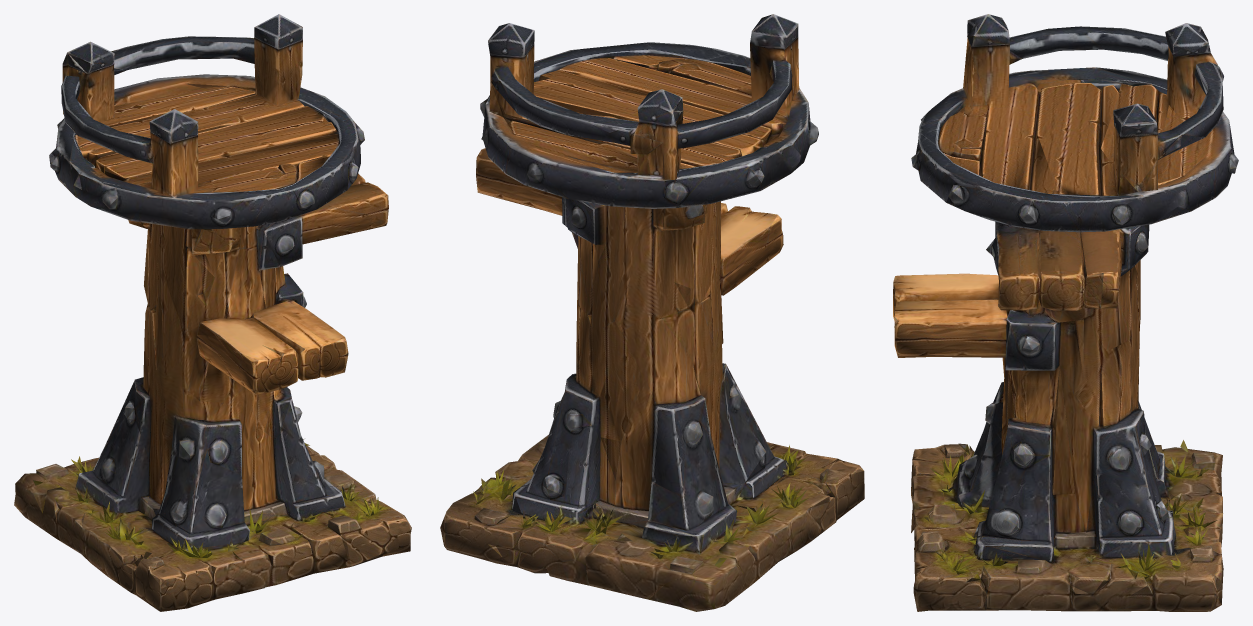
The model's file is perch.glb.
3 renders of one model, left to right at view 1: azimuth 30°, elevation 25°; view 2: azimuth 150°, elevation 25°; view 3: azimuth 270°, elevation 25°, orthographic. The views are drawn at different scales.
Bounding box in the file's own units: 1.27 × 2 × 1.27.
Materials: 1 (1 with a texture image).
